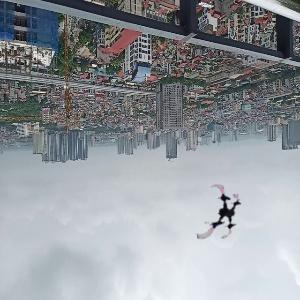drone: (194, 184, 251, 241)
